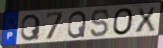7: (45, 11, 65, 41)
O: (112, 7, 135, 37)
Q: (66, 10, 88, 40), (20, 13, 42, 42)
S: (90, 8, 111, 38)
X: (135, 6, 157, 34)
